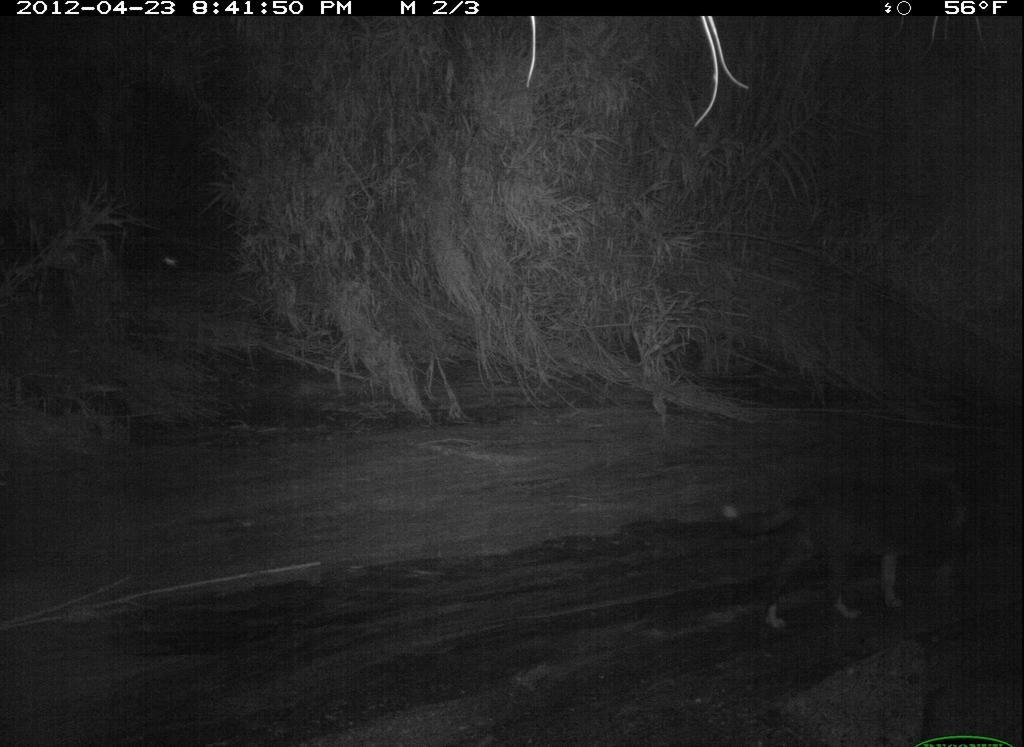dog: (675, 454, 987, 642)
